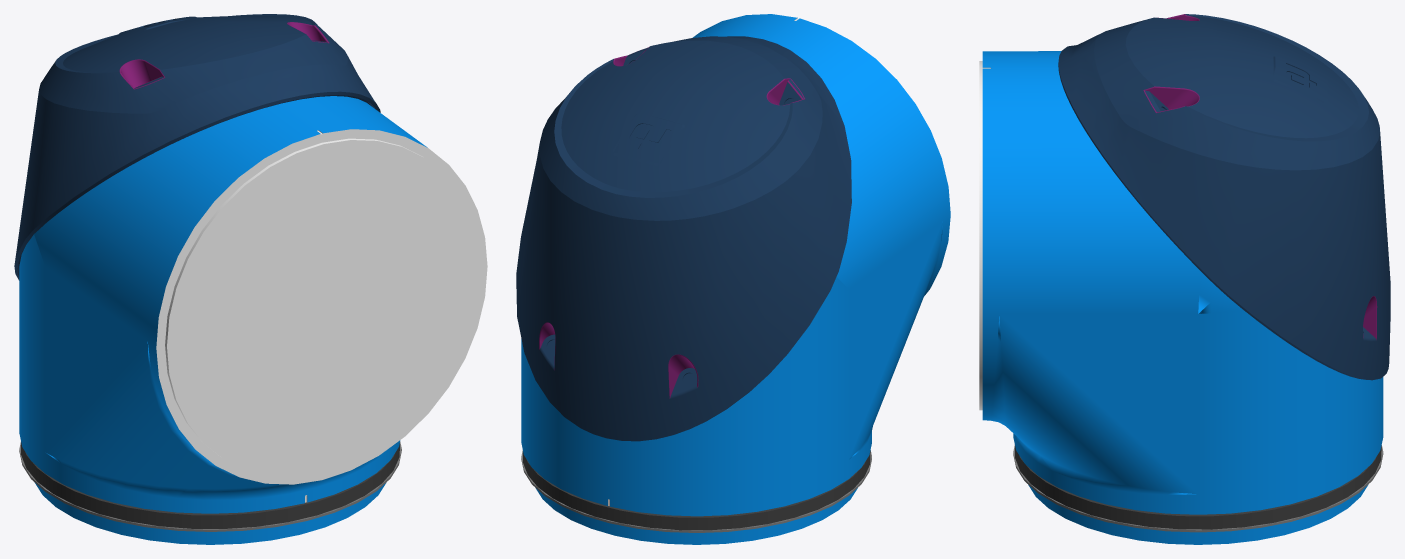
The picture shows the model from 3 angles, left to right: view 1: azimuth 30°, elevation 25°; view 2: azimuth 150°, elevation 25°; view 3: azimuth 270°, elevation 25°; orthographic projection. The views are drawn at different scales.
Parts seen in each view (by area): view 1: RB16-900E_LINK1:1; view 2: RB16-900E_LINK1:1; view 3: RB16-900E_LINK1:1.
Boxes of the visible parts, bbox=[...] form: RB16-900E_LINK1:1: bbox=[14, 14, 487, 544]; RB16-900E_LINK1:1: bbox=[516, 14, 950, 544]; RB16-900E_LINK1:1: bbox=[979, 14, 1390, 544].
Bounding box in the file's own units: 0.153 × 0.1691 × 0.1942.
